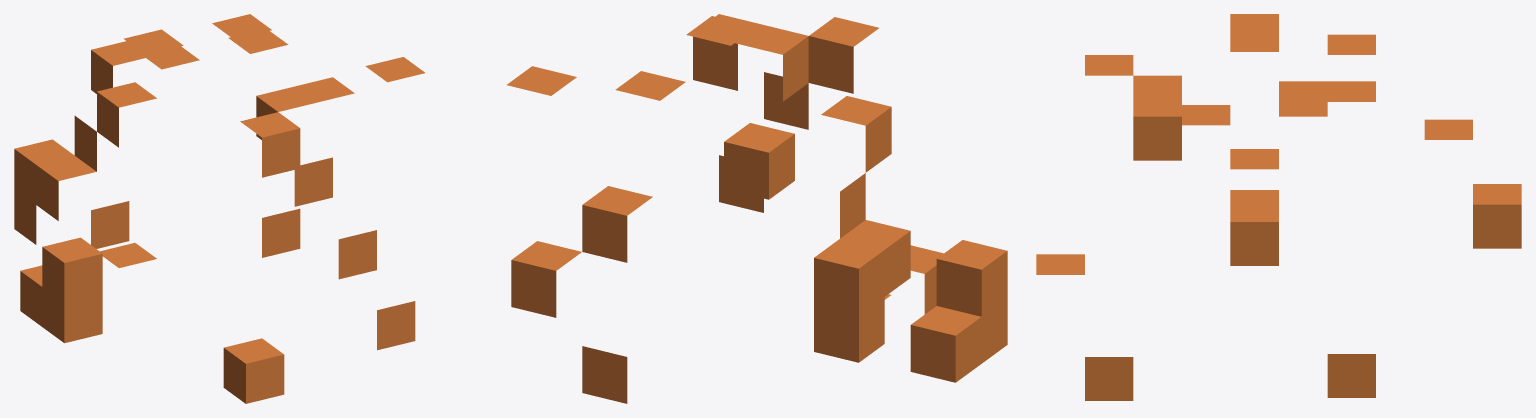
The model's file is tree-maple-1p2-gold-e07f3a.gltf.
3 renders of one model, left to right at view 1: azimuth 30°, elevation 25°; view 2: azimuth 150°, elevation 25°; view 3: azimuth 270°, elevation 25°, orthographic. The views are drawn at different scales.
Parts seen in each view (by area): view 1: tree-maple-1p2-gold-e07f3a; view 2: tree-maple-1p2-gold-e07f3a; view 3: tree-maple-1p2-gold-e07f3a.
Boxes of the visible parts, x1,y1,x2,y2 form: tree-maple-1p2-gold-e07f3a: (14,14,424,403); tree-maple-1p2-gold-e07f3a: (507,14,1007,403); tree-maple-1p2-gold-e07f3a: (1036,14,1521,400).
Bounding box in the file's own units: 10 × 8 × 10.
